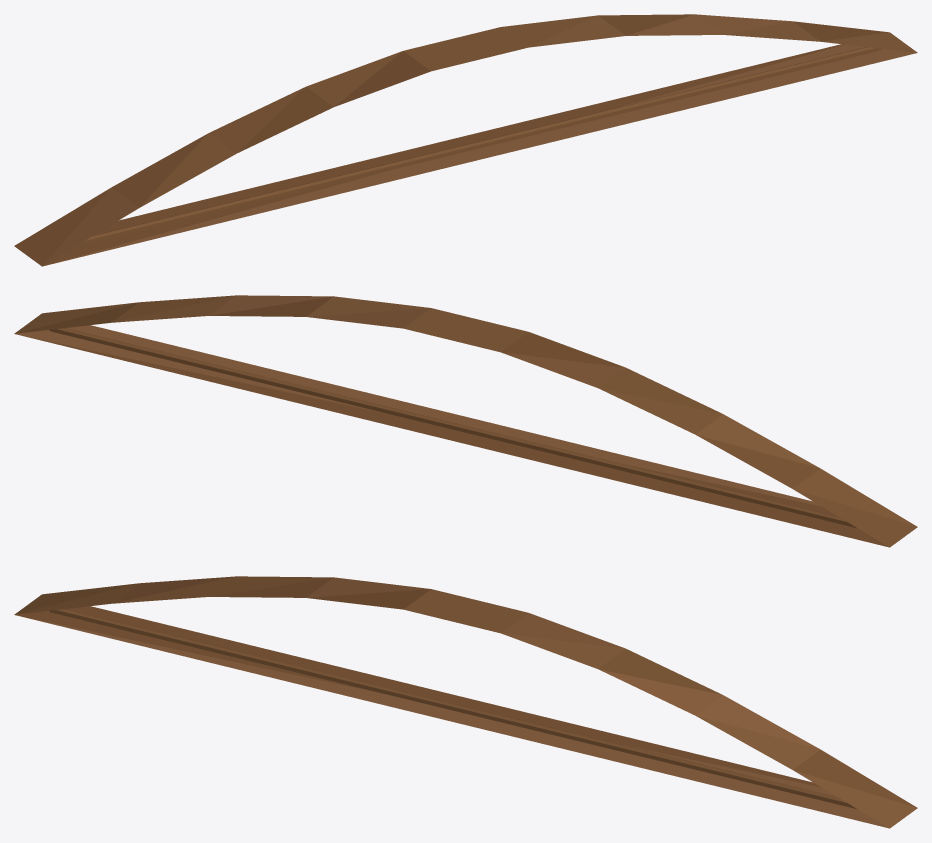
The model's file is Bow_Short_a.fbx.
The picture shows the model from 3 angles, top to bottom: view 1: azimuth 30°, elevation 25°; view 2: azimuth 150°, elevation 25°; view 3: azimuth 330°, elevation 25°; orthographic projection.
Visible parts, largest first — view 1: Bow_Short_a; view 2: Bow_Short_a; view 3: Bow_Short_a.
Boxes of the visible parts, <box> form: Bow_Short_a: <box>14,14,917,266</box>; Bow_Short_a: <box>14,295,917,547</box>; Bow_Short_a: <box>14,576,917,828</box>.
Size of what is drawn, in the model's own units: 0.9 by 0.1027 by 0.05.
